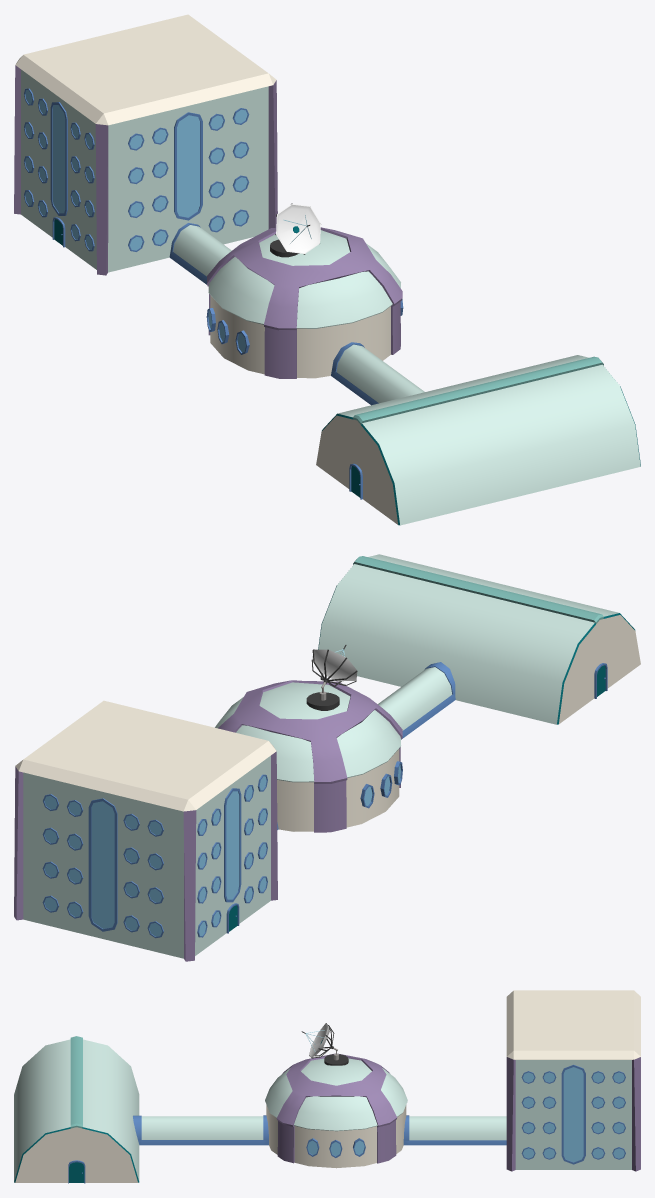
Rendered from Solar_Station_2.fbx.
3 renders of one model, top to bottom at view 1: azimuth 30°, elevation 25°; view 2: azimuth 150°, elevation 25°; view 3: azimuth 270°, elevation 25°, orthographic. The views are drawn at different scales.
Visible parts, largest first — view 1: Solar_Station_2; view 2: Solar_Station_2; view 3: Solar_Station_2.
Part boxes in pixels (x1,y1,x2,y2): Solar_Station_2: (14, 14, 640, 525); Solar_Station_2: (14, 554, 640, 961); Solar_Station_2: (14, 990, 640, 1183).
Size of the model in its own units: 543 by 1598 by 333.
